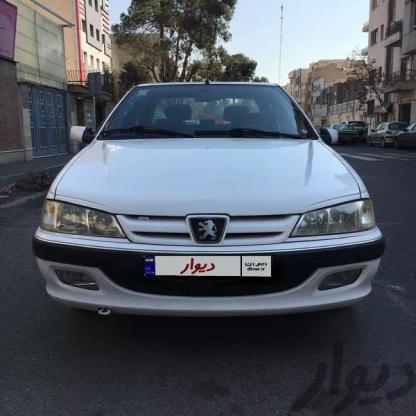Car: (33, 76, 386, 322), (369, 119, 416, 150), (333, 115, 372, 140)
